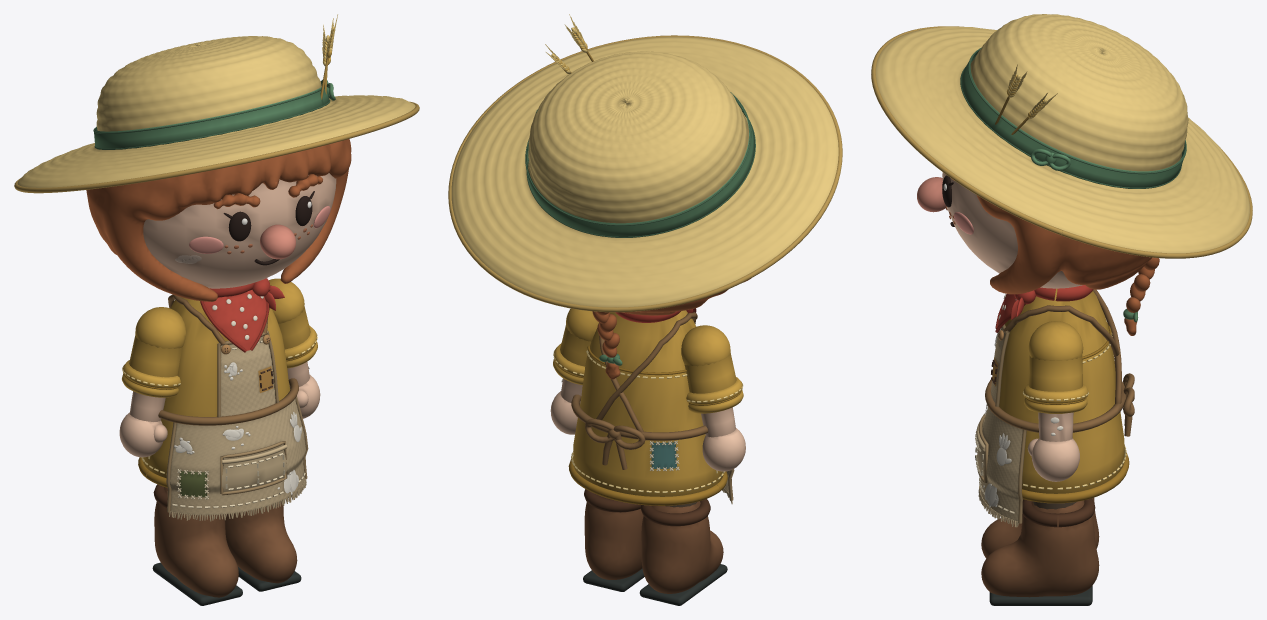
File: miller.glb
The picture shows the model from 3 angles, left to right: view 1: azimuth 30°, elevation 25°; view 2: azimuth 150°, elevation 25°; view 3: azimuth 270°, elevation 25°; orthographic projection. The views are drawn at different scales.
Visible parts, largest first — view 1: head, body, arm_r, leg_r, leg_l, arm_l; view 2: head, body, leg_r, arm_r, leg_l, arm_l; view 3: head, body, leg_l, arm_l, leg_r.
Part boxes in pixels (x1,y1,x2,y2): head: (14,14,419,301); body: (138,278,308,521); arm_r: (119,307,185,457); leg_r: (152,484,242,605); leg_l: (225,501,301,591); arm_l: (269,278,320,418); head: (448,14,842,379); body: (568,308,734,505); leg_r: (639,499,727,605); arm_r: (681,325,745,471); leg_l: (583,489,644,591); arm_l: (550,308,598,434); head: (871,14,1252,335); body: (975,285,1134,527); leg_l: (981,498,1099,605); arm_l: (1023,321,1088,481); leg_r: (981,497,1099,558).
Bounding box in the file's own units: 1.05 × 1.53 × 0.9279.
